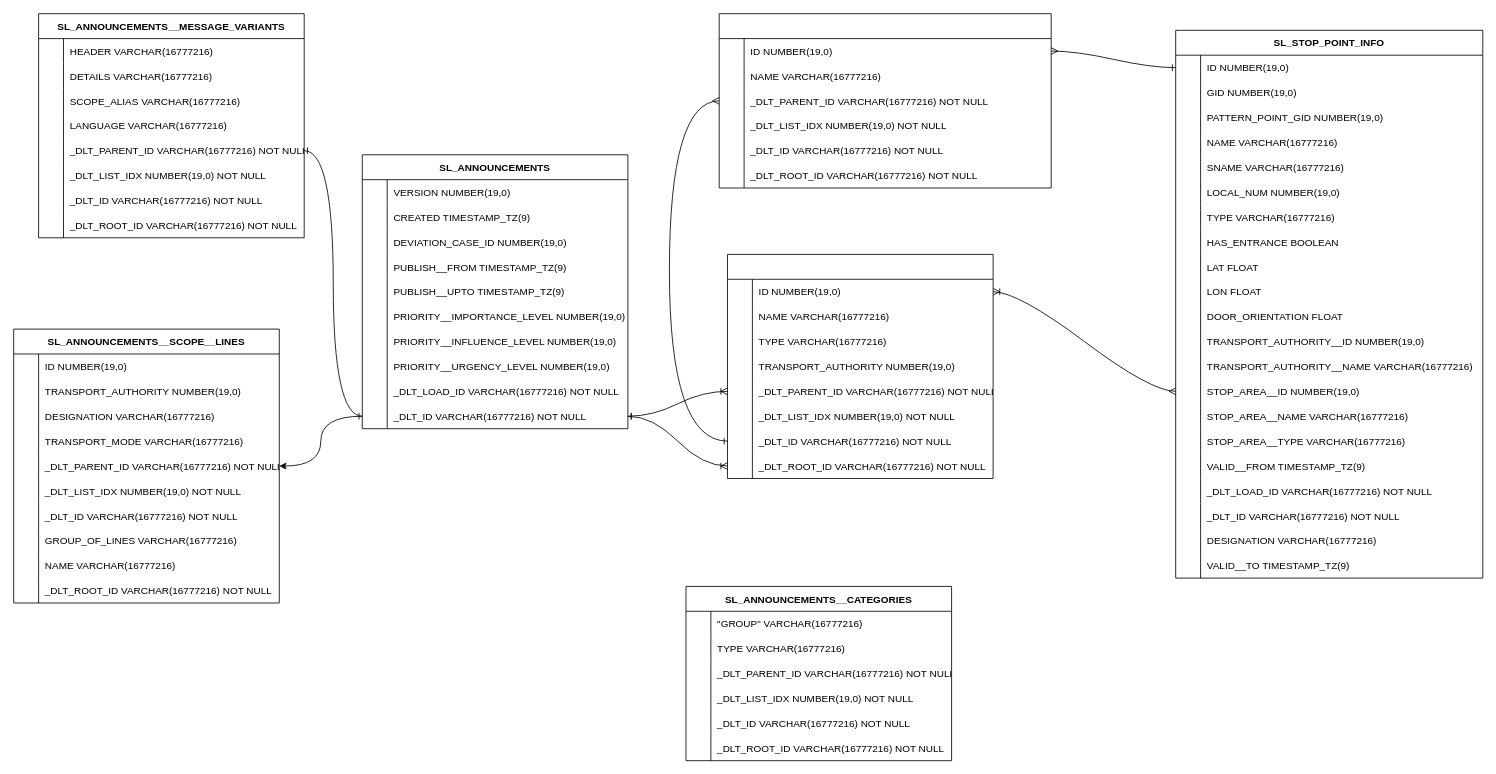
The diagram is 1496 pixels wide and 774 high, and some of its shapes have lost their labels. The box of each missing label's shape, as (x1, y1, x2, y2) in pixels:
SL_ANNOUNCEMENTS__SCOPE__STOP_AREAS: (727, 254, 993, 478)
SL_ANNOUNCEMENTS__SCOPE__STOP_AREAS__STOP_POINTS: (718, 13, 1051, 188)
